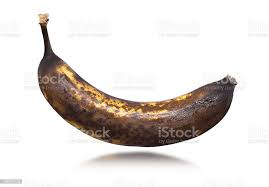looks_defective: (18, 11, 252, 162)
